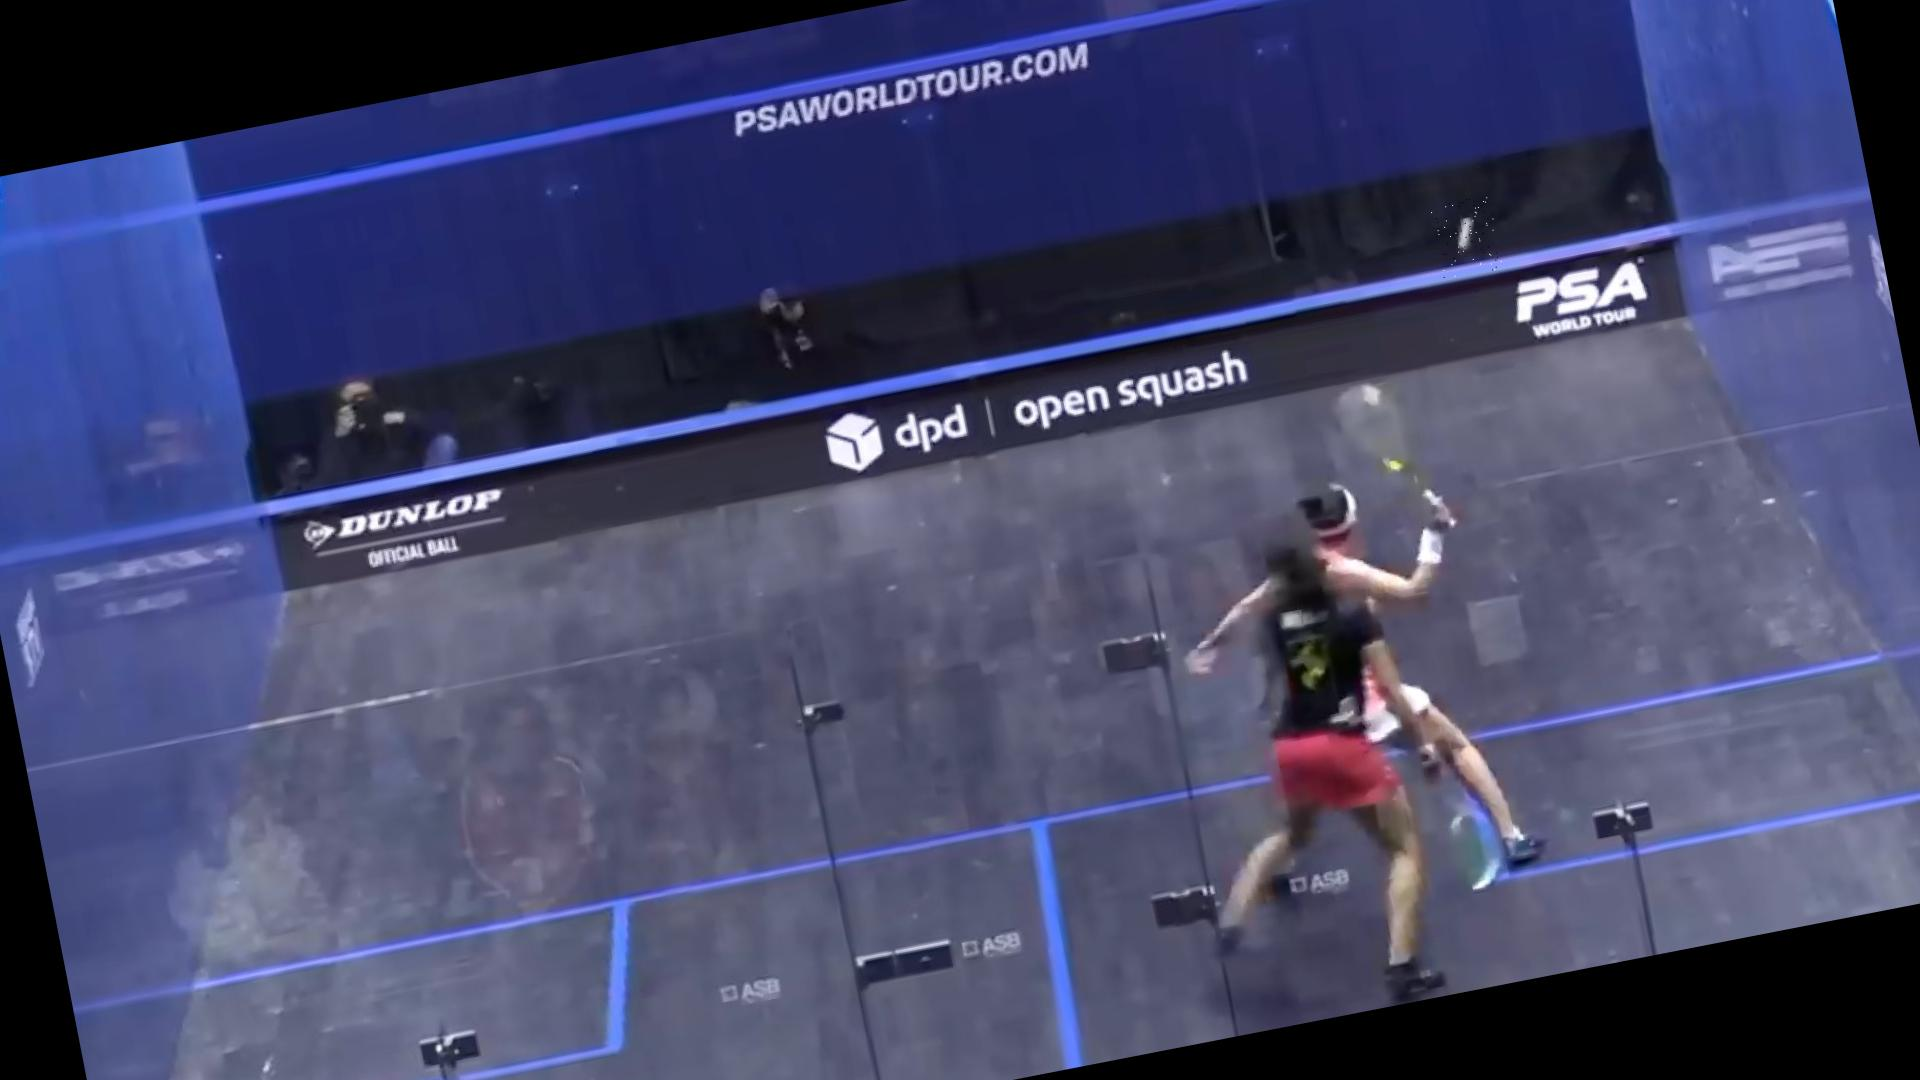Squash-Ball: (1429, 195, 1503, 280)
